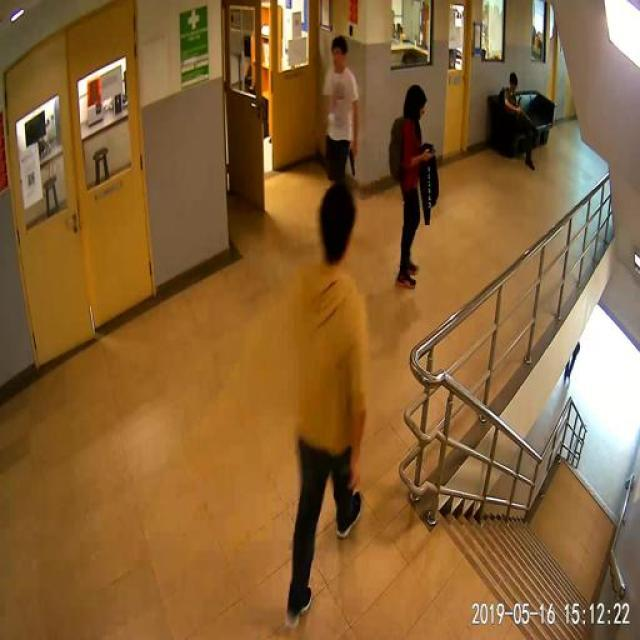Gun: (341, 136, 368, 176)
